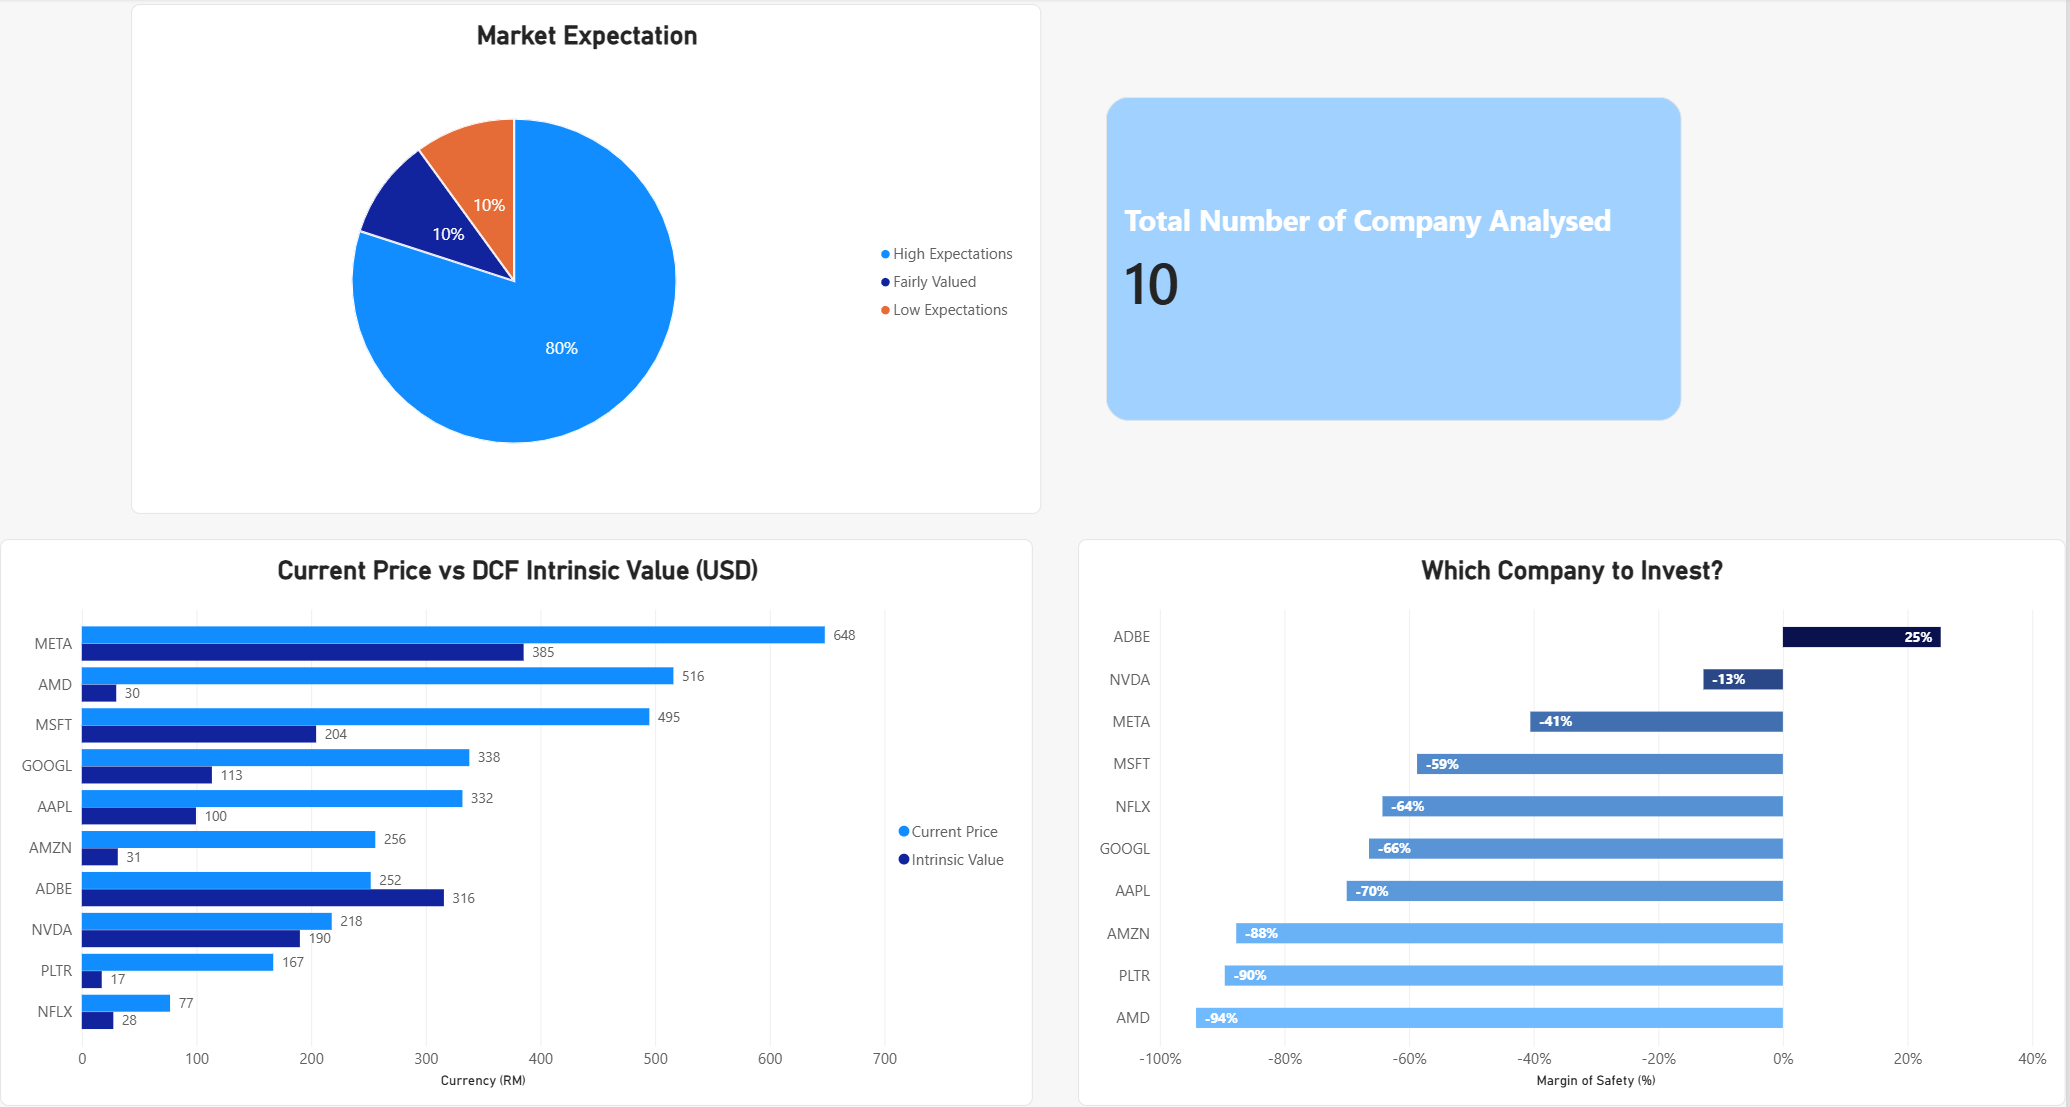

The dashboard page shown, as its layout file describes it:
{"tool":"powerbi","page":{"name":"Executive Summary","canvas":[1920,1080],"ordinal":0},"visuals":[{"type":"clusteredBarChart","title":"Current Price vs DCF Intrinsic Value (USD)","fields":{"Category":["gold investment_dashboard.symbol"],"Y":["Sum(gold investment_dashboard.current_price)","Sum(gold investment_dashboard.base_intrinsic_value)"]},"box":[0,502.6,960,527.1],"z":0},{"type":"pieChart","title":"Market Expectation","fields":{"Category":["gold investment_dashboard.valuation_status"],"Y":["CountNonNull(gold investment_dashboard.symbol)"]},"box":[121.7,5.9,846.1,474.1],"z":1000},{"type":"clusteredBarChart","title":"Which Company to Invest?","fields":{"Category":["gold investment_dashboard.symbol"],"Y":["Sum(gold investment_dashboard.margin_of_safety)"]},"box":[1002.2,502.6,917.8,527.1],"z":2000},{"type":"cardVisual","fields":{"Data":["Count(gold investment_dashboard.company_name)"]},"box":[1027.7,92.3,536,301.3],"z":3000}]}

Visuals, with their boxes on the page's 1920x1080 design canvas (x1, y1, x2, y2). These are canvas units, not pixel positions in the 2070x1107 screenshot, which may show the page scaled, cropped or inside an application window:
"Current Price vs DCF Intrinsic Value (USD)" clusteredBarChart: (left=0, top=503, right=960, bottom=1030)
"Market Expectation" pieChart: (left=122, top=6, right=968, bottom=480)
"Which Company to Invest?" clusteredBarChart: (left=1002, top=503, right=1920, bottom=1030)
cardVisual - Count(gold investment_dashboard.company_name): (left=1028, top=92, right=1564, bottom=394)
